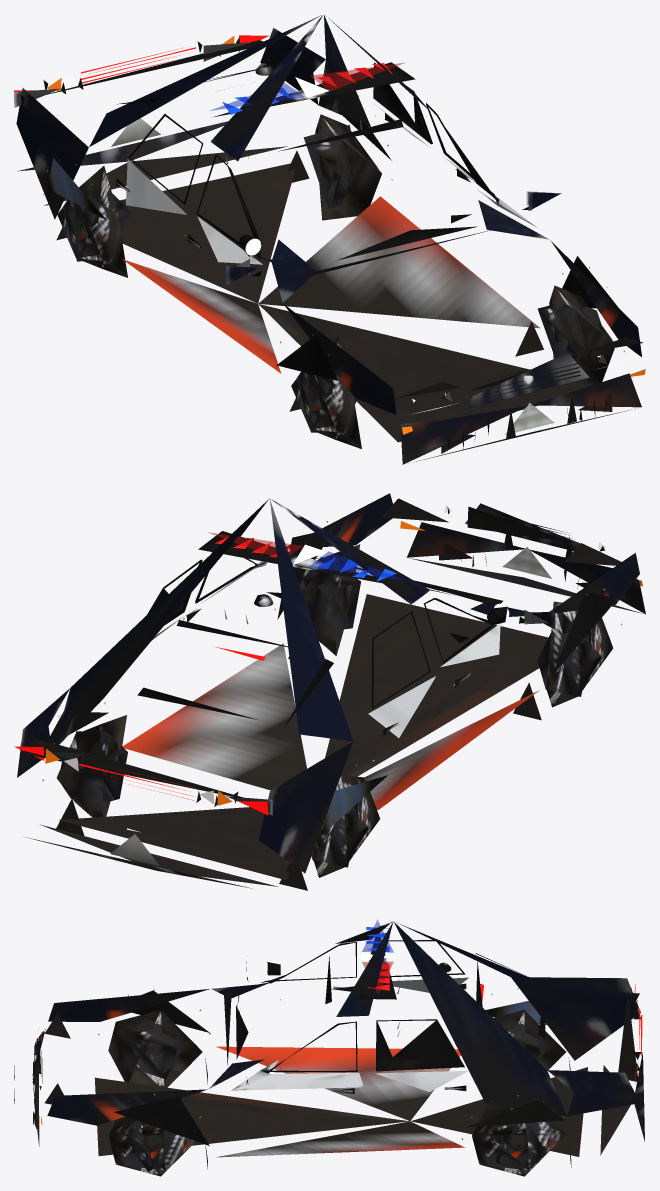
The model's file is security_lod2.glb.
The picture shows the model from 3 angles, top to bottom: view 1: azimuth 30°, elevation 25°; view 2: azimuth 150°, elevation 25°; view 3: azimuth 270°, elevation 25°; orthographic projection. The views are drawn at different scales.
Parts seen in each view (by area): view 1: Body; view 2: Body; view 3: Body.
Boxes of the visible parts, <box> form: Body: <box>14,15,645,464</box>; Body: <box>14,493,645,890</box>; Body: <box>14,920,645,1176</box>.
Size of what is drawn, in the model's own units: 2.19 by 1.8 by 4.61.
Materials: 2 (2 with a texture image).
